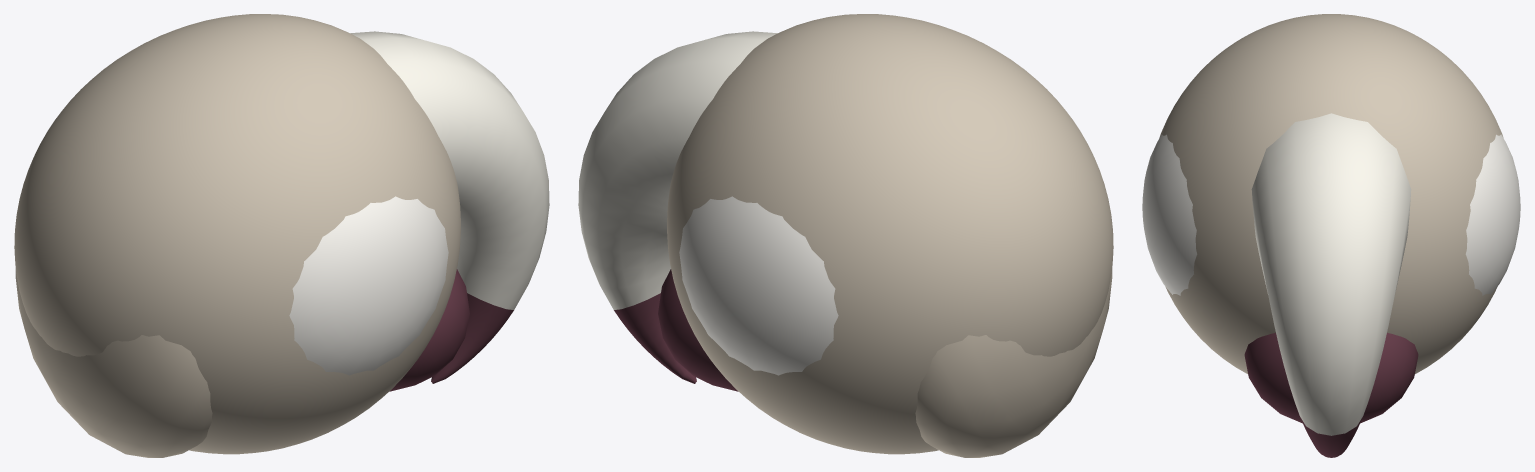
The model's file is creature.parrothead.glb.
3 views of the same model, side by side, from view 1: azimuth 30°, elevation 25°; view 2: azimuth 150°, elevation 25°; view 3: azimuth 270°, elevation 25° (orthographic). The views are drawn at different scales.
Visible parts, largest first — view 1: Skin, Bone, Down, Dark; view 2: Skin, Bone, Down, Dark; view 3: Skin, Bone, Down, Dark.
Part boxes in pixels (x1,y1,x2,y2): Skin: [14, 14, 460, 457]; Bone: [350, 31, 549, 309]; Down: [289, 196, 448, 375]; Dark: [389, 269, 513, 391]; Skin: [667, 14, 1113, 457]; Bone: [578, 31, 777, 309]; Down: [679, 196, 838, 375]; Dark: [614, 269, 738, 391]; Skin: [1159, 14, 1503, 373]; Bone: [1251, 113, 1411, 435]; Down: [1142, 134, 1520, 295]; Dark: [1244, 333, 1418, 457].
Bounding box in the file's own units: 3.45 × 2.62 × 2.58.
